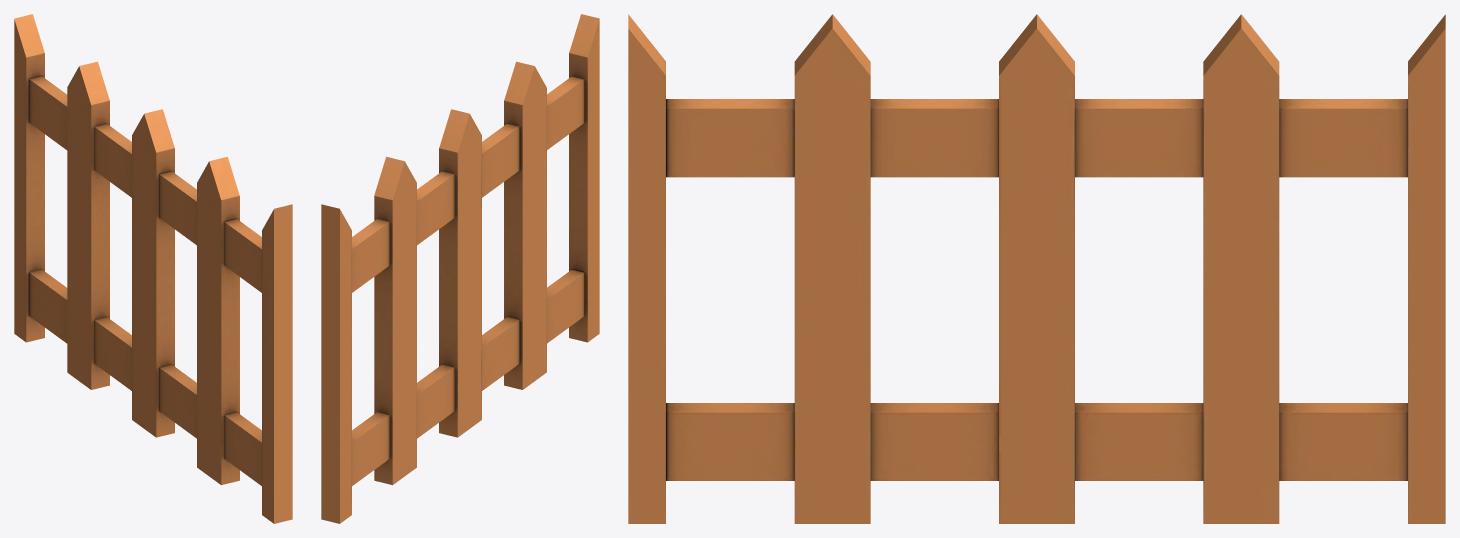
File: Fence.glb
3 renders of one model, left to right at view 1: azimuth 30°, elevation 25°; view 2: azimuth 150°, elevation 25°; view 3: azimuth 270°, elevation 25°, orthographic. The views are drawn at different scales.
Visible parts, largest first — view 1: Fence; view 2: Fence; view 3: Fence.
Part boxes in pixels (left/top/right/bottom): Fence: left=14, top=14, right=292, bottom=523; Fence: left=321, top=14, right=599, bottom=523; Fence: left=628, top=14, right=1445, bottom=523.
Bounding box in the file's own units: 0.0767 × 1.24 × 1.85.
Materials: 1 (1 with a texture image).
